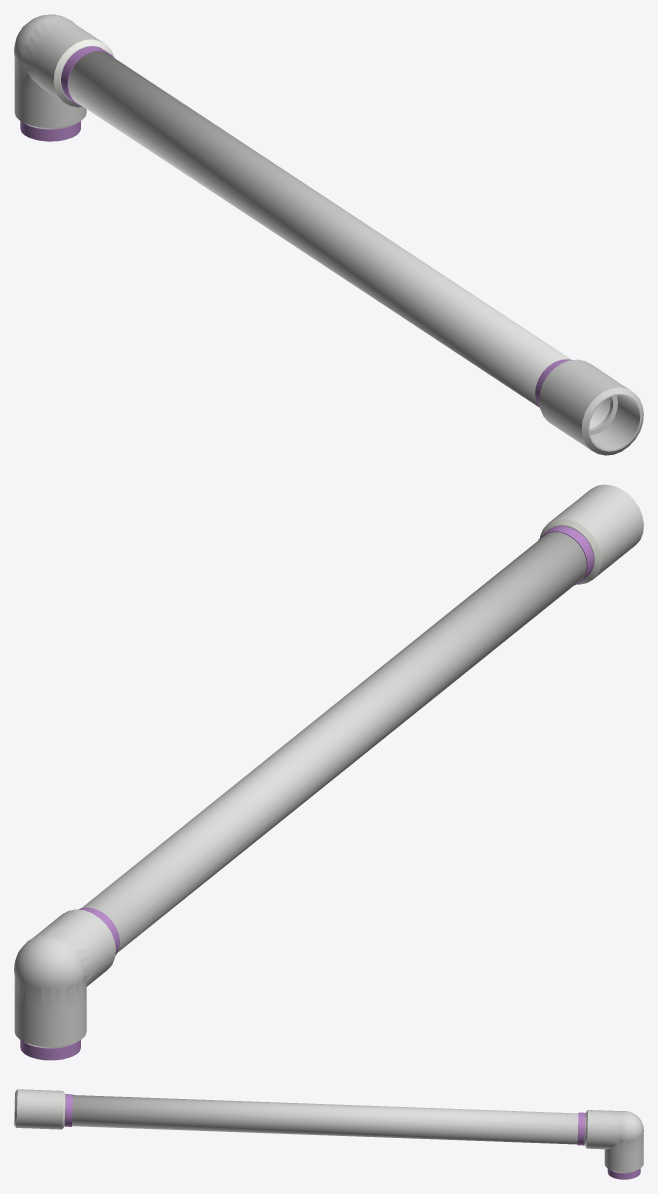
The model's file is slab_pipes_dwv__water_heater-garage_hybrid.glb.
The picture shows the model from 3 angles, top to bottom: view 1: azimuth 30°, elevation 25°; view 2: azimuth 150°, elevation 25°; view 3: azimuth 270°, elevation 25°; orthographic projection. The views are drawn at different scales.
Visible parts, largest first — view 1: pipe_dwv_pan_drain_wh_hybrid, fit_adapter_pipe_dwv_pan_drain_wh_hybrid; view 2: pipe_dwv_pan_drain_wh_hybrid, fit_adapter_pipe_dwv_pan_drain_wh_hybrid; view 3: pipe_dwv_pan_drain_wh_hybrid, fit_adapter_pipe_dwv_pan_drain_wh_hybrid.
Part boxes in pixels (x1=…): pipe_dwv_pan_drain_wh_hybrid: x1=14, y1=14, x2=610, y2=428; fit_adapter_pipe_dwv_pan_drain_wh_hybrid: x1=535, y1=359, x2=643, y2=455; pipe_dwv_pan_drain_wh_hybrid: x1=14, y1=532, x2=586, y2=1060; fit_adapter_pipe_dwv_pan_drain_wh_hybrid: x1=538, y1=484, x2=643, y2=585; pipe_dwv_pan_drain_wh_hybrid: x1=64, y1=1094, x2=643, y2=1179; fit_adapter_pipe_dwv_pan_drain_wh_hybrid: x1=14, y1=1089, x2=72, y2=1129.
Size of the model in its own units: 0.0338 by 0.0773 by 0.5377.
